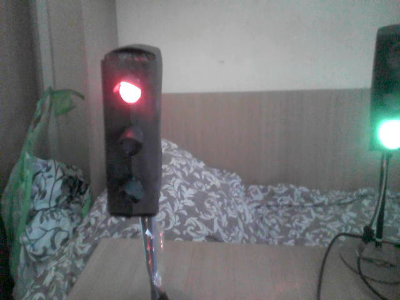trafficlight_green: (369, 33, 400, 148)
trafficlight_red: (102, 53, 159, 217)
